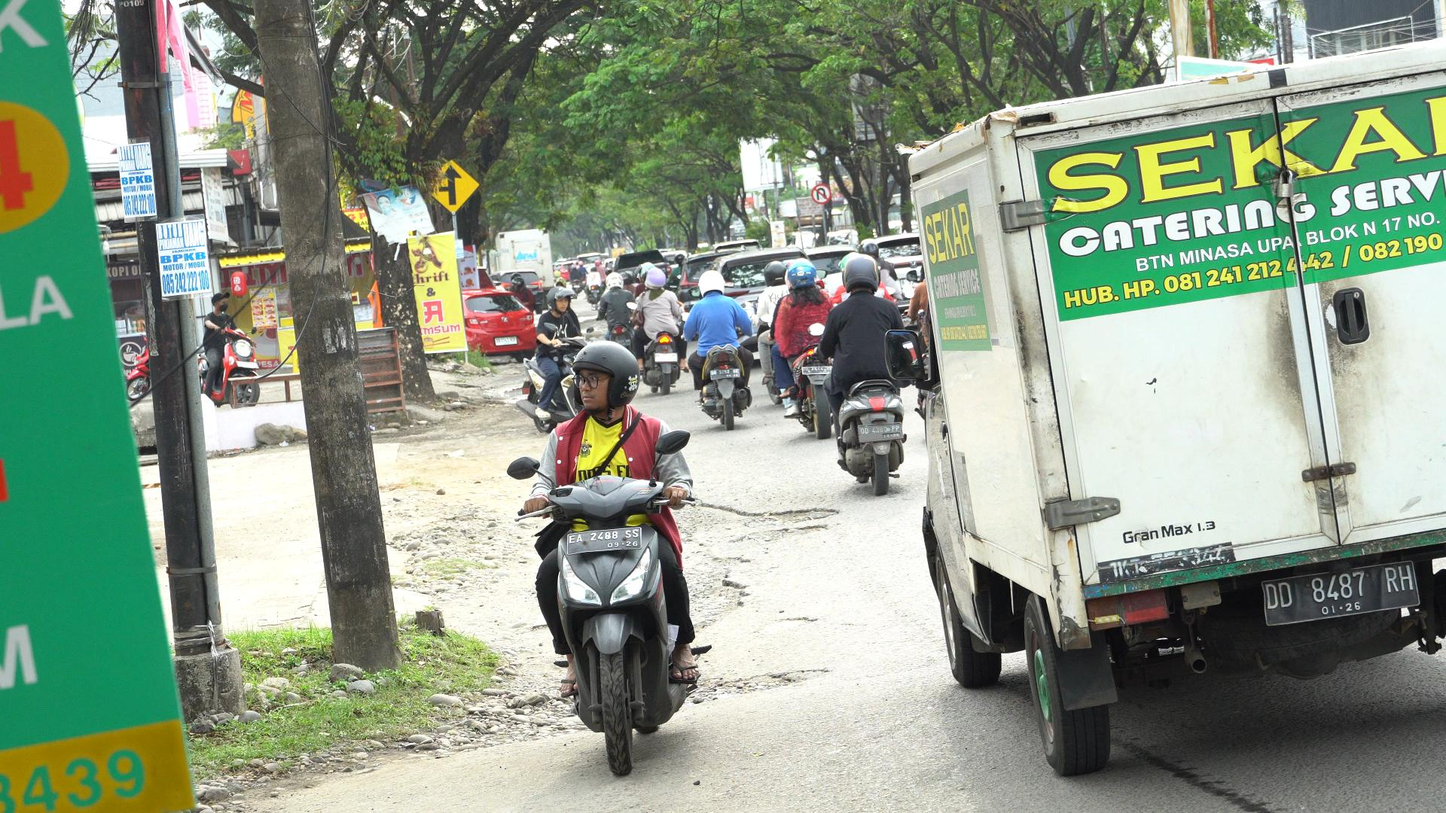number-plate: (566, 526, 640, 554)
